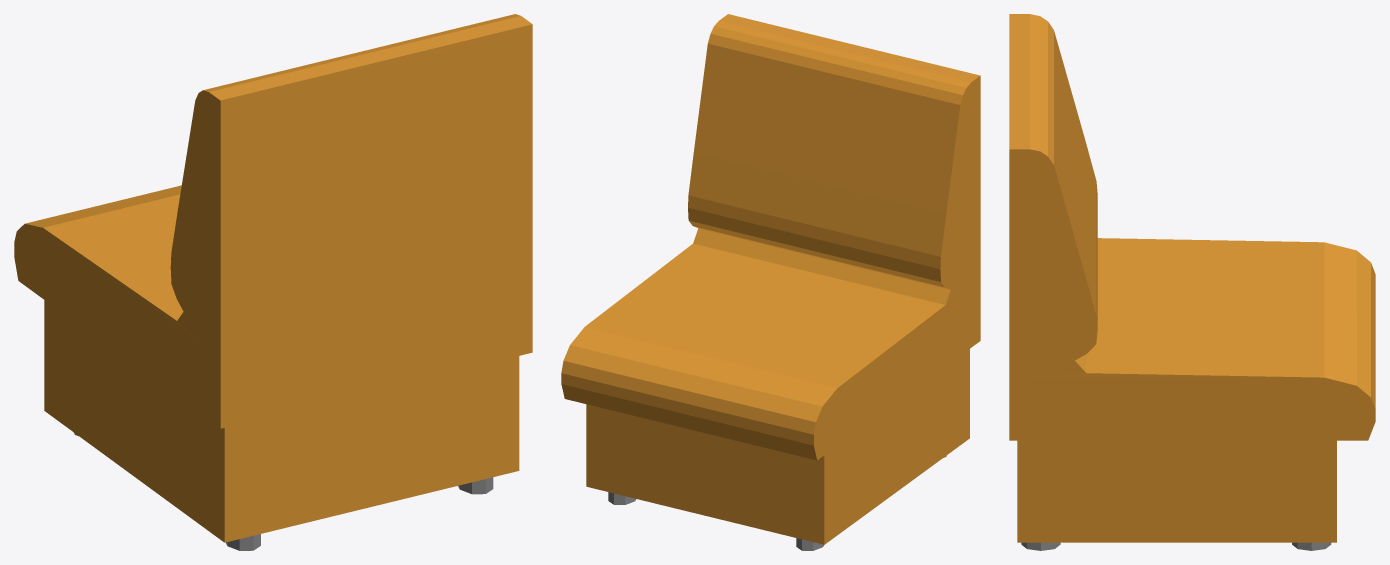
The model's file is soft_chair_visual_orange.dae.
3 views of the same model, side by side, from view 1: azimuth 30°, elevation 25°; view 2: azimuth 150°, elevation 25°; view 3: azimuth 270°, elevation 25° (orthographic). The views are drawn at different scales.
Parts seen in each view (by area): view 1: Circle; view 2: Circle; view 3: Circle.
Boxes of the visible parts, x1,y1,x2,y2 form: Circle: (14,14,532,550); Circle: (561,14,980,550); Circle: (1009,14,1375,550).
Bounding box in the file's own units: 68.14 × 77.97 × 96.93.
